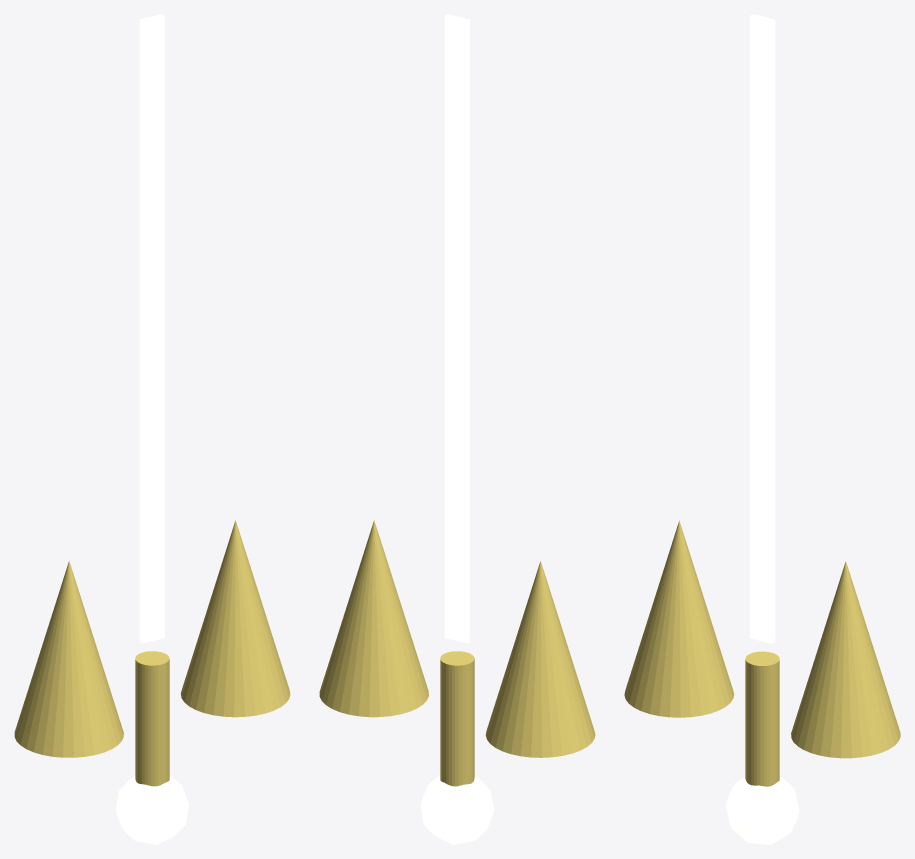
Rendered from weapon_celestial_sword.glb.
The picture shows the model from 3 angles, left to right: view 1: azimuth 30°, elevation 25°; view 2: azimuth 150°, elevation 25°; view 3: azimuth 330°, elevation 25°; orthographic projection.
Parts seen in each view (by area): view 1: Cube, Cone, Cone.001, Cylinder, Icosphere; view 2: Cube, Cone.001, Cone, Cylinder, Icosphere; view 3: Cube, Cone.001, Cone, Cylinder, Icosphere.
Part boxes in pixels (<box>): Cube: <box>139,14,164,643</box>; Cone: <box>14,561,123,757</box>; Cone.001: <box>180,520,290,717</box>; Cylinder: <box>135,651,169,786</box>; Icosphere: <box>115,775,189,844</box>; Cube: <box>444,14,469,643</box>; Cone.001: <box>319,520,428,717</box>; Cone: <box>485,561,595,757</box>; Cylinder: <box>440,651,474,786</box>; Icosphere: <box>420,774,494,844</box>; Cube: <box>750,14,775,643</box>; Cone.001: <box>791,561,900,758</box>; Cone: <box>624,520,734,717</box>; Cylinder: <box>745,651,779,786</box>; Icosphere: <box>725,776,799,844</box>.
Bounding box in the file's own units: 0.4398 × 1.32 × 0.1598.
